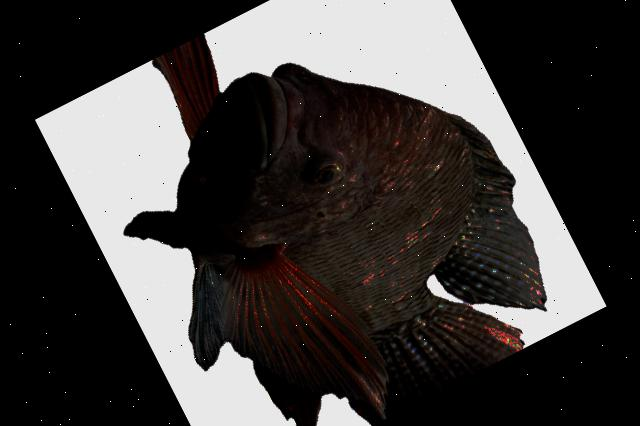Parasitic Disease: (124, 34, 544, 426), (124, 34, 543, 426)
